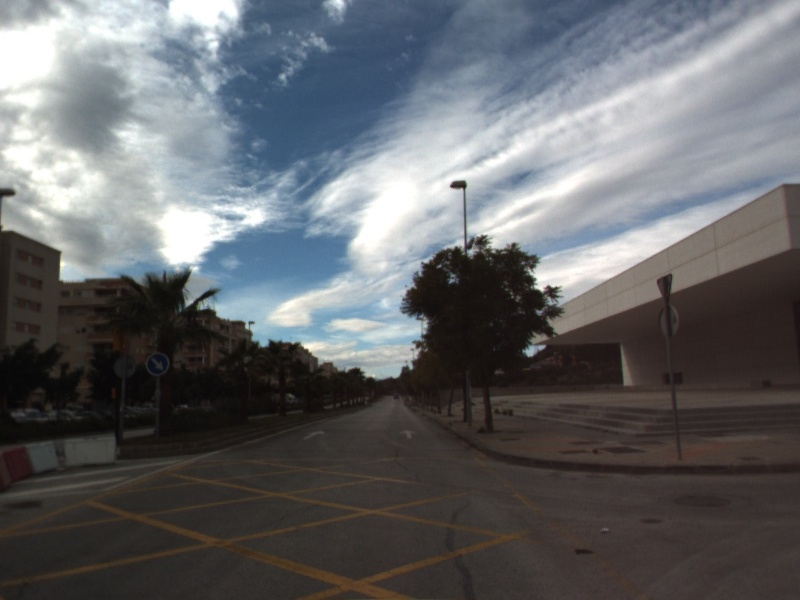STRAIGHT: (301, 428, 328, 441), (397, 427, 419, 441)
